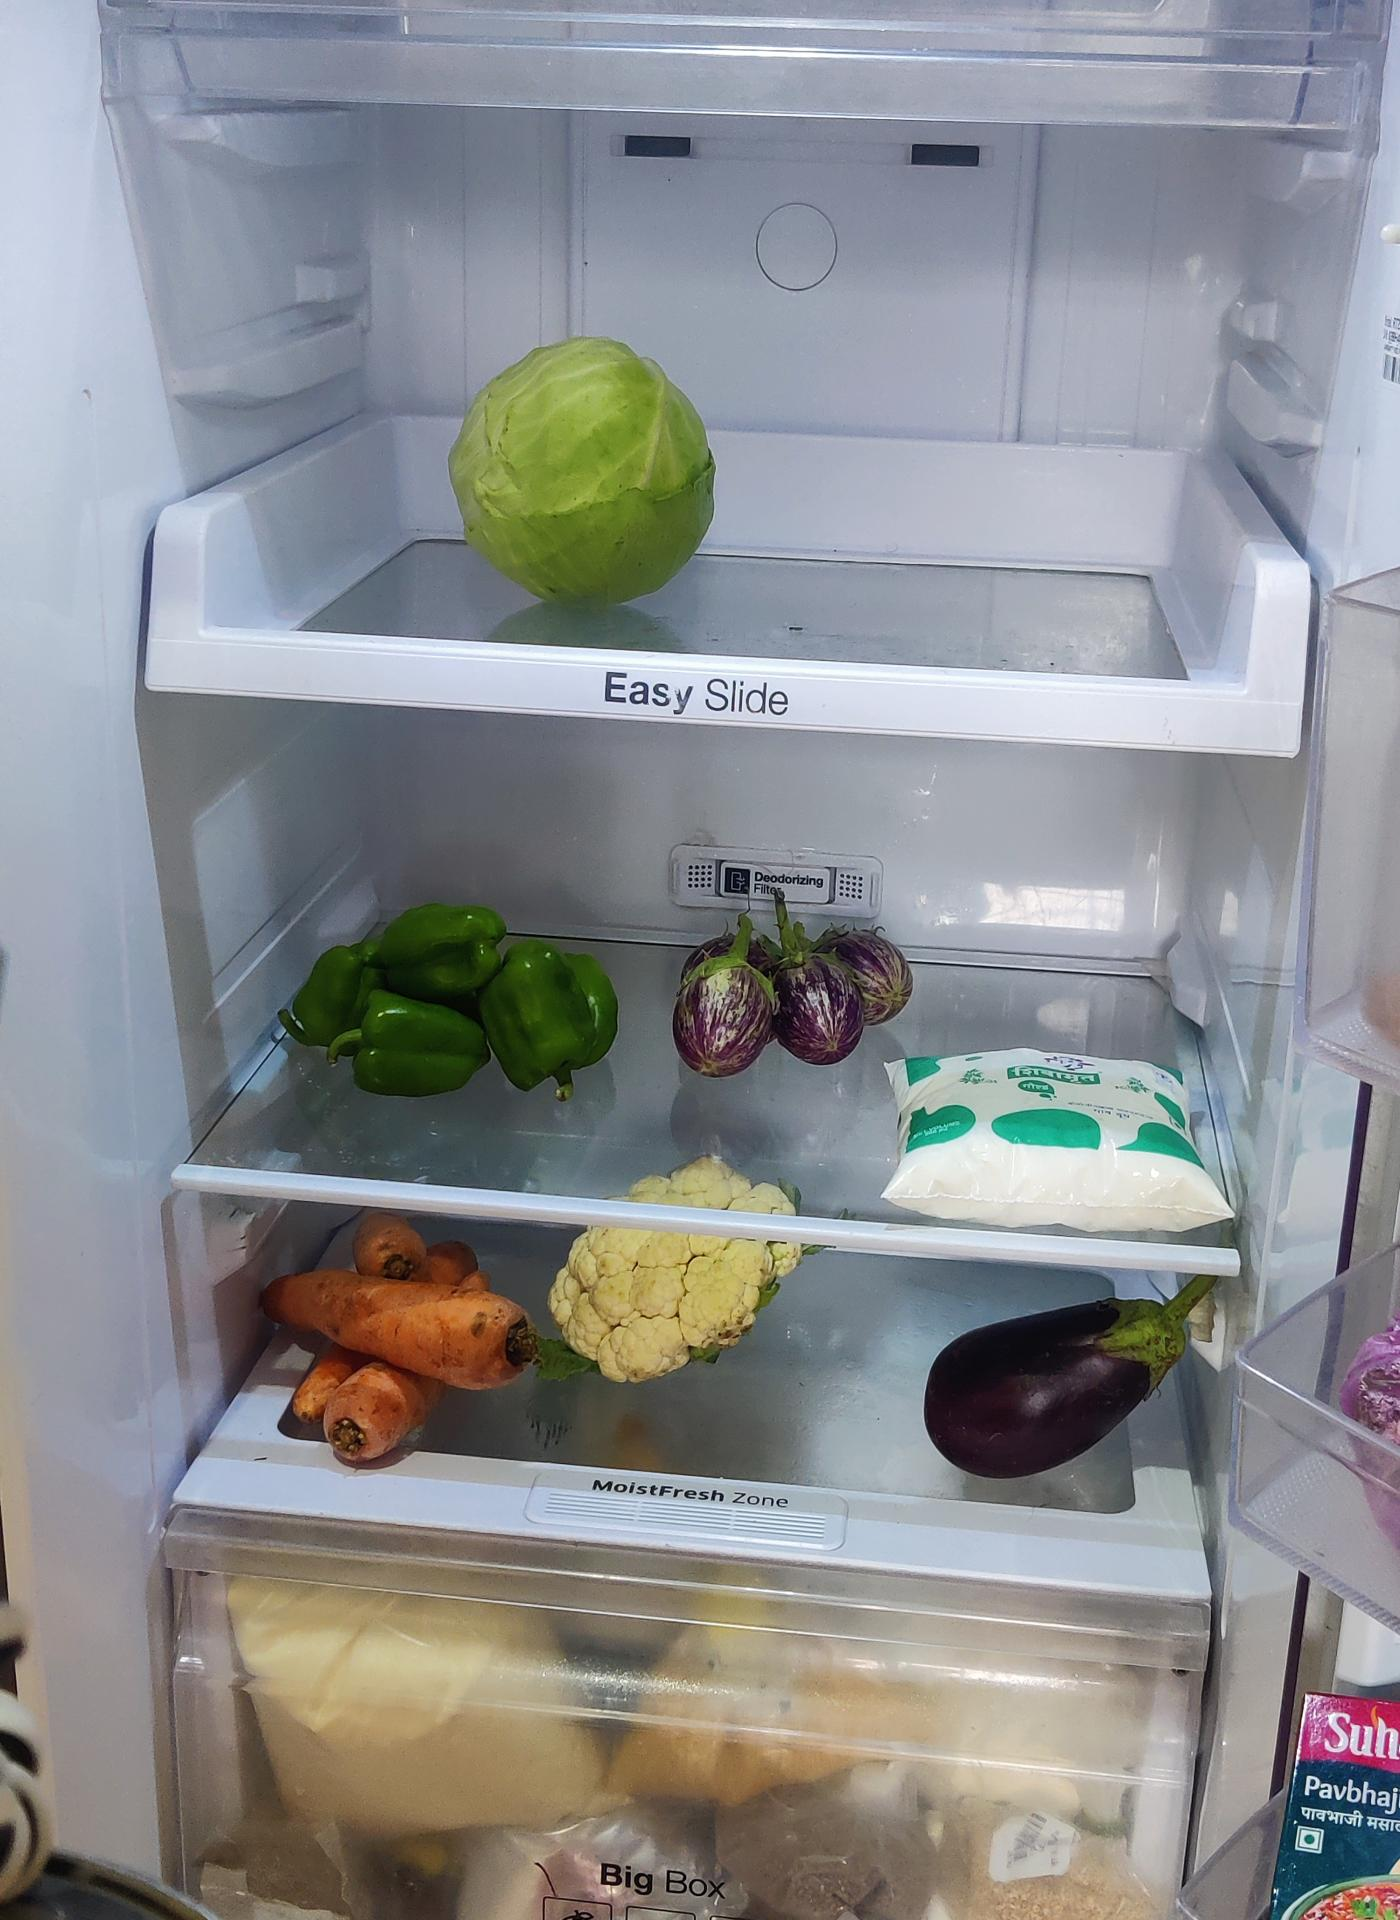brinjal: (926, 1278, 1208, 1480), (674, 915, 909, 1067)
cabbage: (455, 340, 708, 593)
capsicum: (289, 894, 623, 1090)
carrots: (265, 1219, 532, 1467)
cauliflower: (562, 1163, 799, 1364)
milk: (887, 1048, 1229, 1233)
